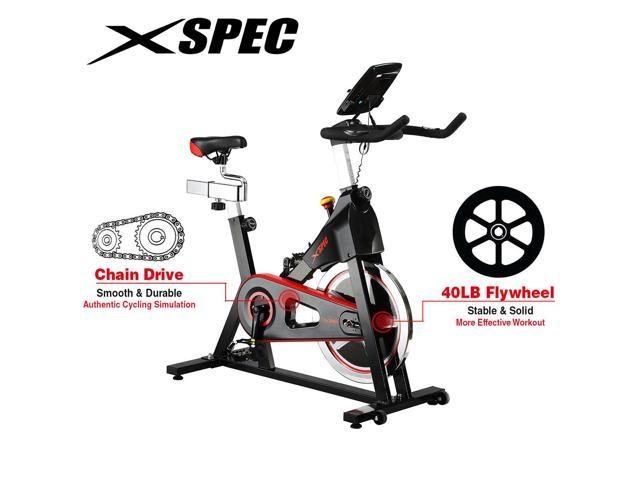gym_bike: (169, 65, 466, 436)
